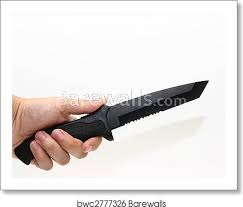knife: (7, 78, 212, 170)
